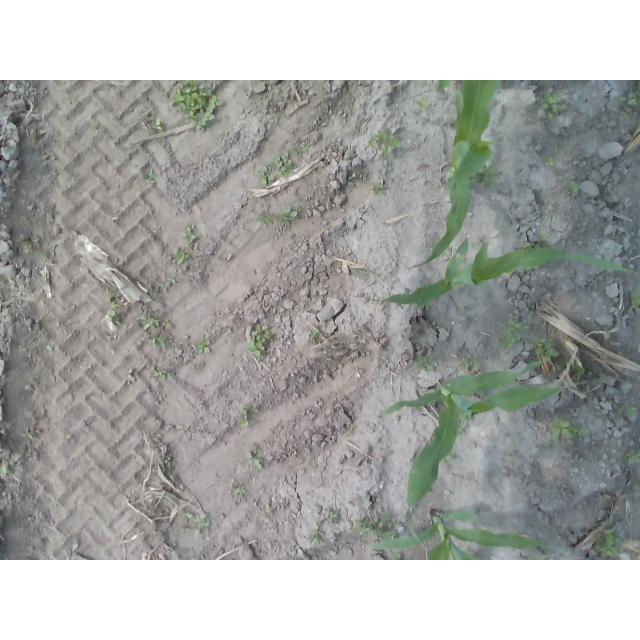Maize: (376, 355, 588, 550), (369, 239, 635, 309), (408, 80, 500, 269), (368, 508, 572, 560)
Weeds: (168, 80, 224, 132), (352, 512, 400, 539), (549, 416, 588, 448), (593, 525, 623, 560), (498, 318, 530, 350), (365, 130, 402, 155), (245, 324, 271, 356), (540, 92, 567, 121), (471, 164, 501, 189), (532, 335, 560, 361), (619, 89, 640, 116), (273, 152, 295, 176), (555, 359, 586, 376), (245, 443, 264, 469), (20, 234, 41, 256), (307, 522, 325, 547), (257, 163, 275, 186), (276, 207, 297, 226), (181, 223, 199, 245), (193, 514, 211, 535), (105, 286, 121, 309), (151, 360, 168, 380), (173, 247, 191, 264), (147, 333, 167, 348), (140, 314, 161, 328), (460, 359, 481, 373), (418, 355, 435, 372), (147, 117, 166, 132), (291, 142, 310, 156), (100, 310, 120, 323), (325, 508, 341, 524), (231, 484, 246, 501), (539, 232, 554, 249), (256, 212, 274, 226), (141, 168, 159, 182), (625, 448, 640, 464), (619, 404, 637, 417), (197, 339, 212, 354), (630, 287, 640, 309), (372, 180, 388, 193), (565, 182, 580, 194), (239, 405, 258, 414), (418, 97, 431, 110), (1, 461, 12, 476), (237, 418, 251, 428), (149, 287, 159, 301), (21, 430, 36, 439), (544, 155, 556, 166), (440, 453, 453, 463), (161, 319, 172, 330), (348, 173, 356, 188), (167, 273, 177, 285), (175, 526, 190, 534), (427, 321, 439, 331), (390, 552, 403, 561), (523, 242, 542, 248), (310, 329, 321, 338), (461, 548, 472, 557), (633, 477, 640, 491), (456, 423, 464, 435), (164, 456, 172, 468), (180, 512, 192, 520), (635, 546, 640, 560), (0, 279, 6, 287), (107, 334, 113, 341), (46, 249, 51, 256)
